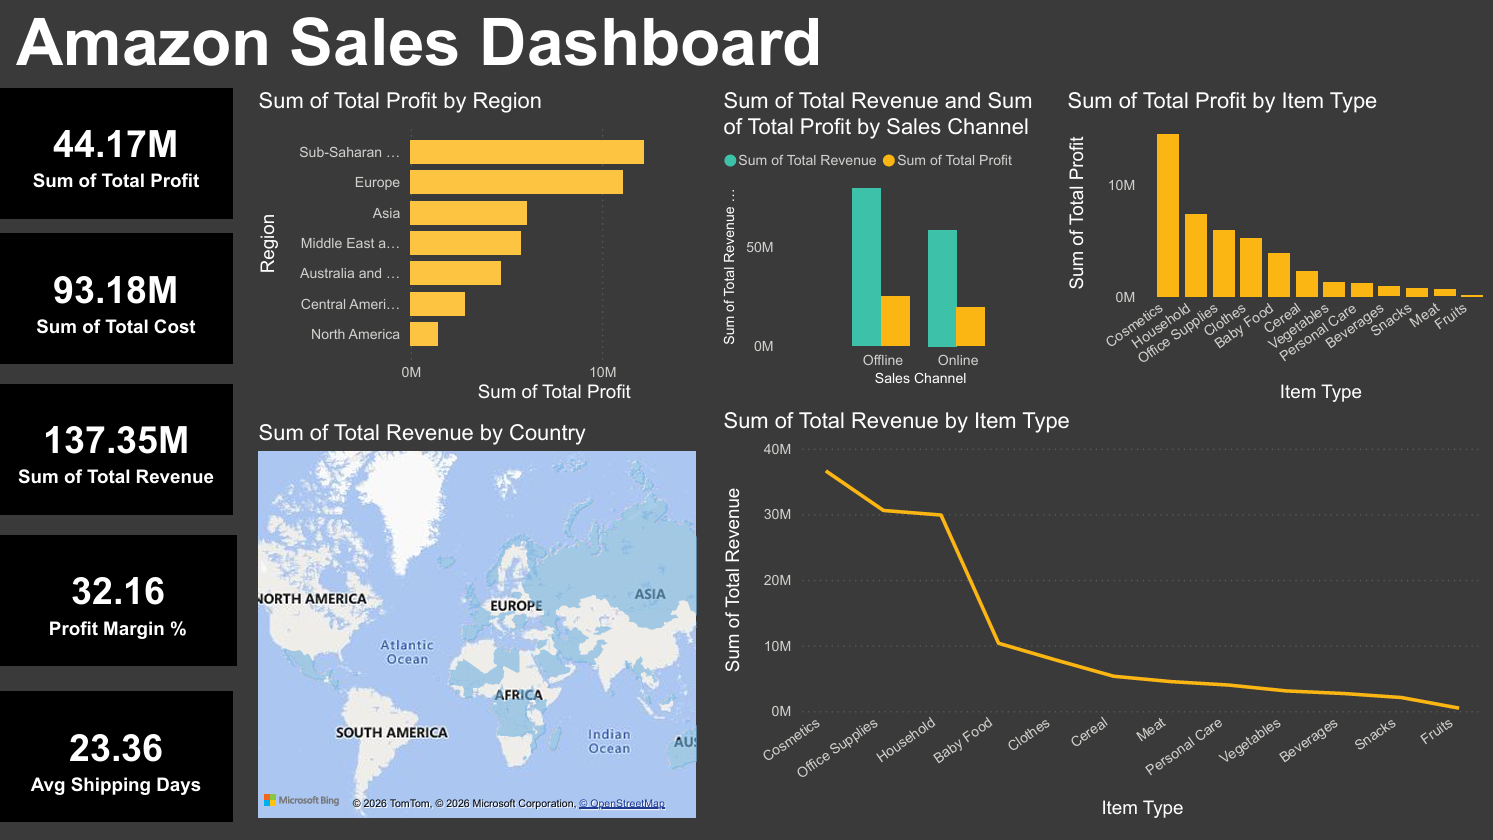

The dashboard page shown, as its layout file describes it:
{"tool":"powerbi","page":{"name":"Page 3","canvas":[1280,720],"ordinal":0},"visuals":[{"type":"textbox","box":[9.7,0,698.5,94.1],"z":0},{"type":"card","fields":{"Values":["Sum(AmazonSalesData.Total Profit)"]},"box":[0,77.2,201.5,111],"z":1000},{"type":"card","fields":{"Values":["Sum(AmazonSalesData.Total Cost)"]},"box":[0,201.5,201.5,111],"z":2000},{"type":"card","fields":{"Values":["Sum(AmazonSalesData.Total Revenue)"]},"box":[0,329.4,201.5,111],"z":3000},{"type":"card","fields":{"Values":["AmazonSalesData.Profit Margin %"]},"box":[1.2,458.4,201.5,111],"z":4000},{"type":"card","fields":{"Values":["AmazonSalesData.Avg Shipping Days"]},"box":[0,591.2,201.5,111],"z":5000},{"type":"barChart","fields":{"Category":["AmazonSalesData.Region"],"Y":["Sum(AmazonSalesData.Total Profit)"]},"box":[217.2,77.2,395.7,271.4],"z":6000},{"type":"clusteredColumnChart","fields":{"Category":["AmazonSalesData.Item Type"],"Y":["Sum(AmazonSalesData.Total Profit)"]},"box":[905.7,77.1,374.3,271.4],"z":7000},{"type":"clusteredColumnChart","fields":{"Category":["AmazonSalesData.Sales Channel"],"Y":["Sum(AmazonSalesData.Total Revenue)","Sum(AmazonSalesData.Total Profit)"]},"box":[612.9,77.2,293.2,258.2],"z":8000},{"type":"filledMap","fields":{"Category":["AmazonSalesData.Country"]},"box":[217.1,360,382.9,342.9],"z":9000},{"type":"lineChart","fields":{"Category":["AmazonSalesData.Item Type"],"Y":["Sum(AmazonSalesData.Total Revenue)"]},"box":[612.9,348.6,655.7,354.3],"z":10000}]}

Visuals, with their boxes in screenshot pixels (x1, y1, x2, y2), scaled from the page's 1280x720 canvas onto the 1493x840 screenshot:
textbox: {"x1": 11, "y1": 0, "x2": 826, "y2": 110}
card - Sum(AmazonSalesData.Total Profit): {"x1": 0, "y1": 90, "x2": 235, "y2": 220}
card - Sum(AmazonSalesData.Total Cost): {"x1": 0, "y1": 235, "x2": 235, "y2": 365}
card - Sum(AmazonSalesData.Total Revenue): {"x1": 0, "y1": 384, "x2": 235, "y2": 514}
card - AmazonSalesData.Profit Margin %: {"x1": 1, "y1": 535, "x2": 236, "y2": 664}
card - AmazonSalesData.Avg Shipping Days: {"x1": 0, "y1": 690, "x2": 235, "y2": 819}
barChart - AmazonSalesData.Region x Sum(AmazonSalesData.Total Profit): {"x1": 253, "y1": 90, "x2": 715, "y2": 407}
clusteredColumnChart - AmazonSalesData.Item Type x Sum(AmazonSalesData.Total Profit): {"x1": 1056, "y1": 90, "x2": 1492, "y2": 407}
clusteredColumnChart - AmazonSalesData.Sales Channel x Sum(AmazonSalesData.Total Revenue): {"x1": 715, "y1": 90, "x2": 1057, "y2": 391}
filledMap - AmazonSalesData.Country: {"x1": 253, "y1": 420, "x2": 700, "y2": 820}
lineChart - AmazonSalesData.Item Type x Sum(AmazonSalesData.Total Revenue): {"x1": 715, "y1": 407, "x2": 1480, "y2": 820}
